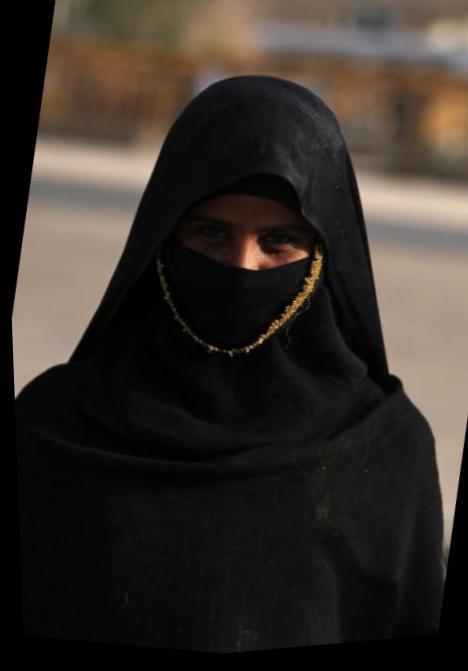WRONG: (140, 181, 324, 376)
